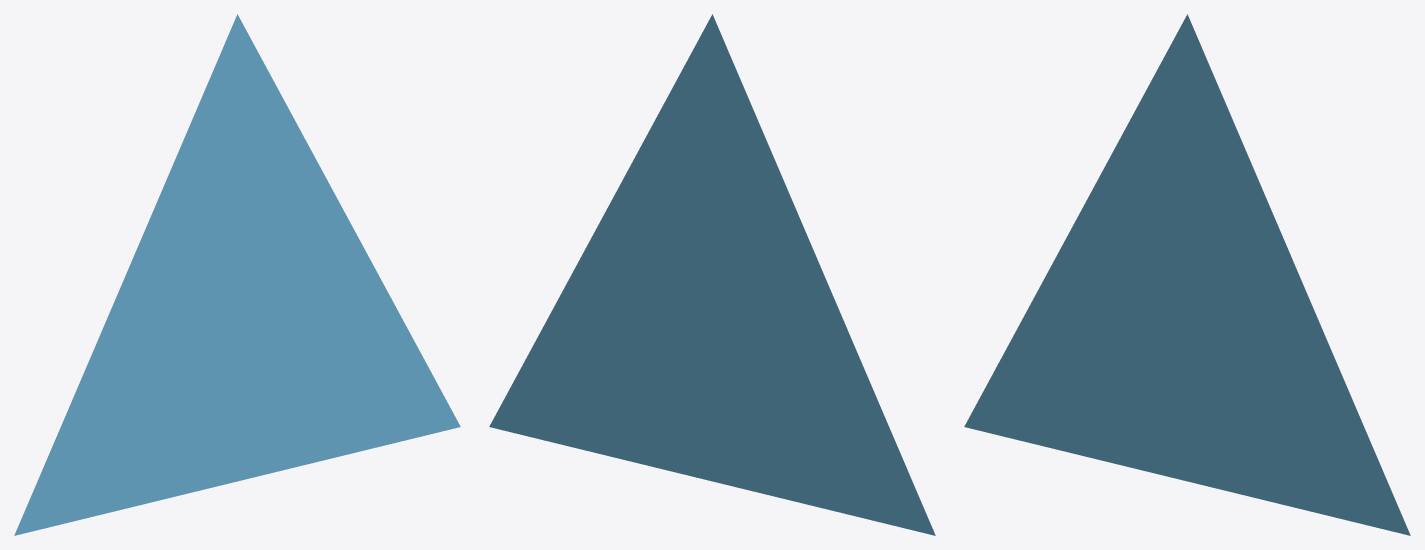
File: motion.gltf
3 renders of one model, left to right at view 1: azimuth 30°, elevation 25°; view 2: azimuth 150°, elevation 25°; view 3: azimuth 330°, elevation 25°, orthographic.
Visible parts, largest first — view 1: Triangle; view 2: Triangle; view 3: Triangle.
Boxes of the visible parts, x1,y1,x2,y2 form: Triangle: [14, 14, 460, 535]; Triangle: [489, 14, 935, 535]; Triangle: [964, 14, 1410, 535].
Bounding box in the file's own units: 2 × 2 × 0.
